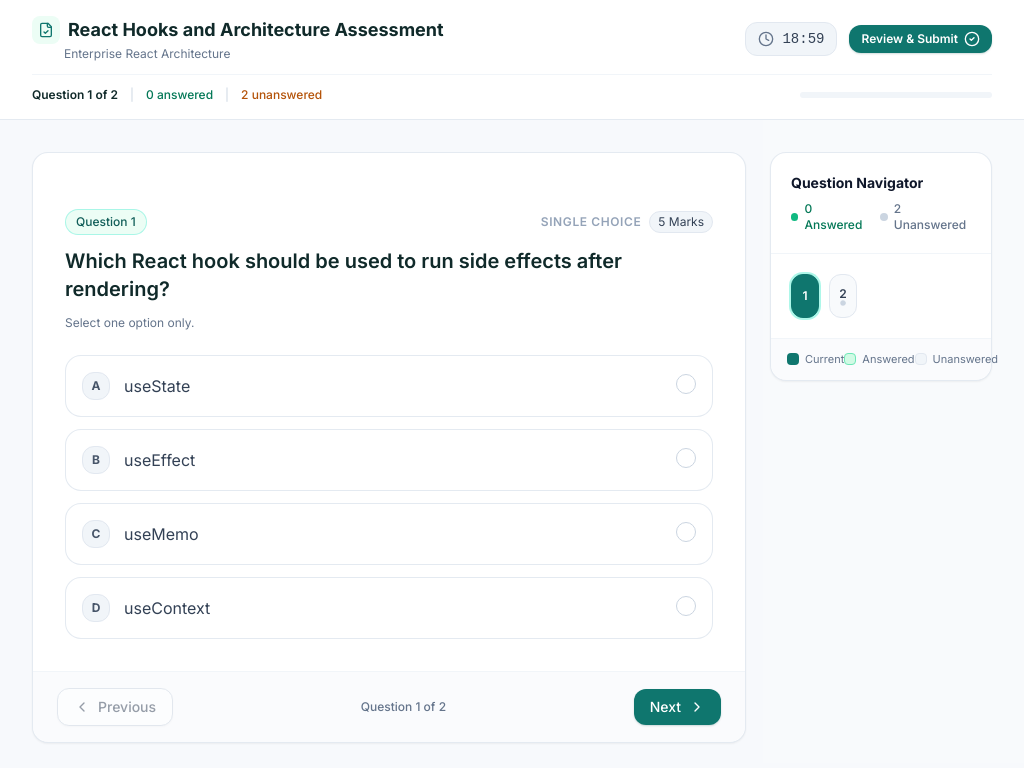
Test: AssessmentPlayerPage › shows answered and unanswered state in navigator and counters
The image size is (1024, 768).
Expected: the text "0 answered" is shown, [146,87,213,103]
Expected: the text "2 unanswered" is shown, [241,87,322,103]
// Select answer for Q1
Click the text "useEffect": (160, 460) [124,450,195,470]
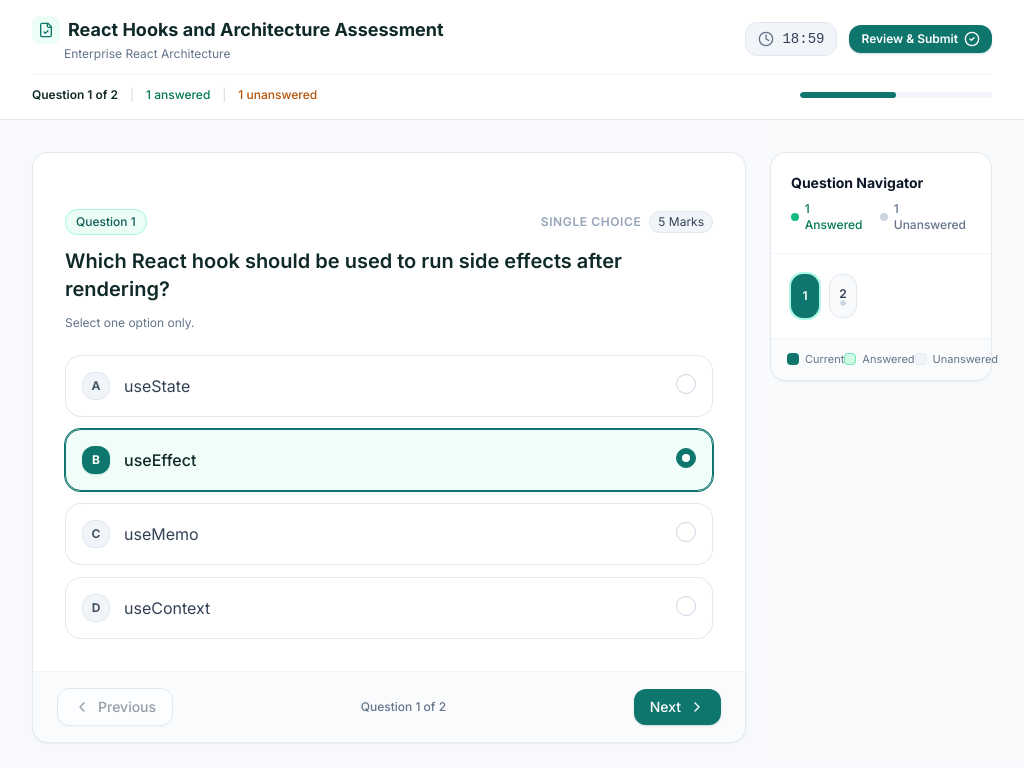
Now the text "1 answered" is shown, box [146,87,210,103]
Now the text "1 unanswered" is shown, box [238,87,317,103]
